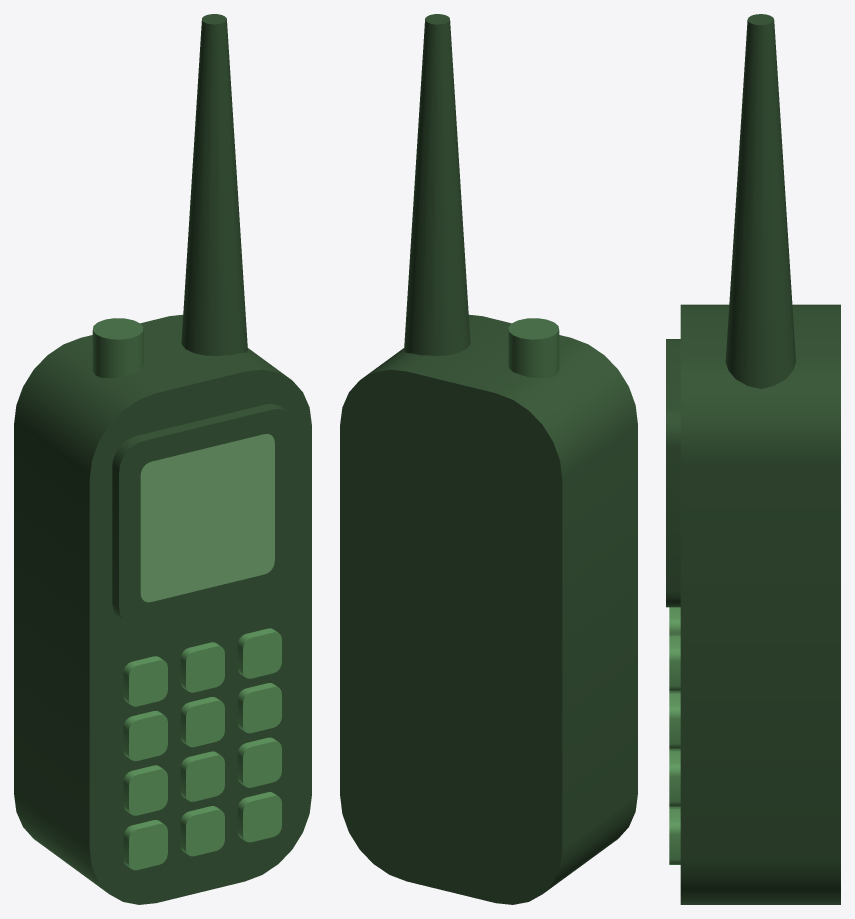
File: Radio.fbx
3 views of the same model, side by side, from view 1: azimuth 30°, elevation 25°; view 2: azimuth 150°, elevation 25°; view 3: azimuth 270°, elevation 25° (orthographic). The views are drawn at different scales.
Visible parts, largest first — view 1: Radio; view 2: Radio; view 3: Radio.
Boxes of the visible parts, <box> form: Radio: <box>14,14,311,904</box>; Radio: <box>340,14,637,904</box>; Radio: <box>666,14,840,904</box>.
Size of the model in its own units: 0.307 by 1.1 by 0.1976.
